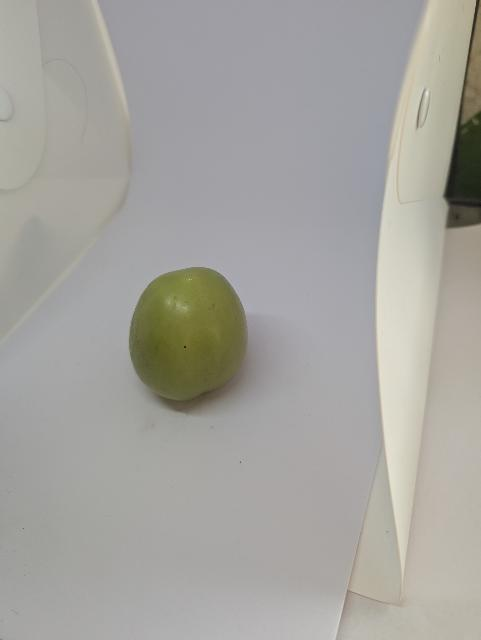green: (102, 244, 265, 409)
